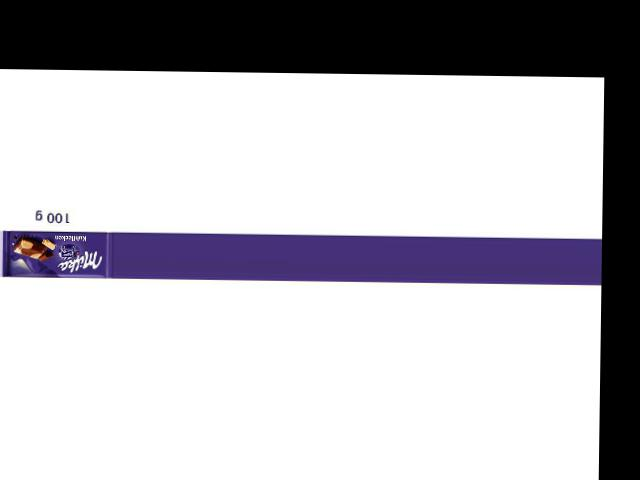chocolate: (1, 223, 113, 279)
